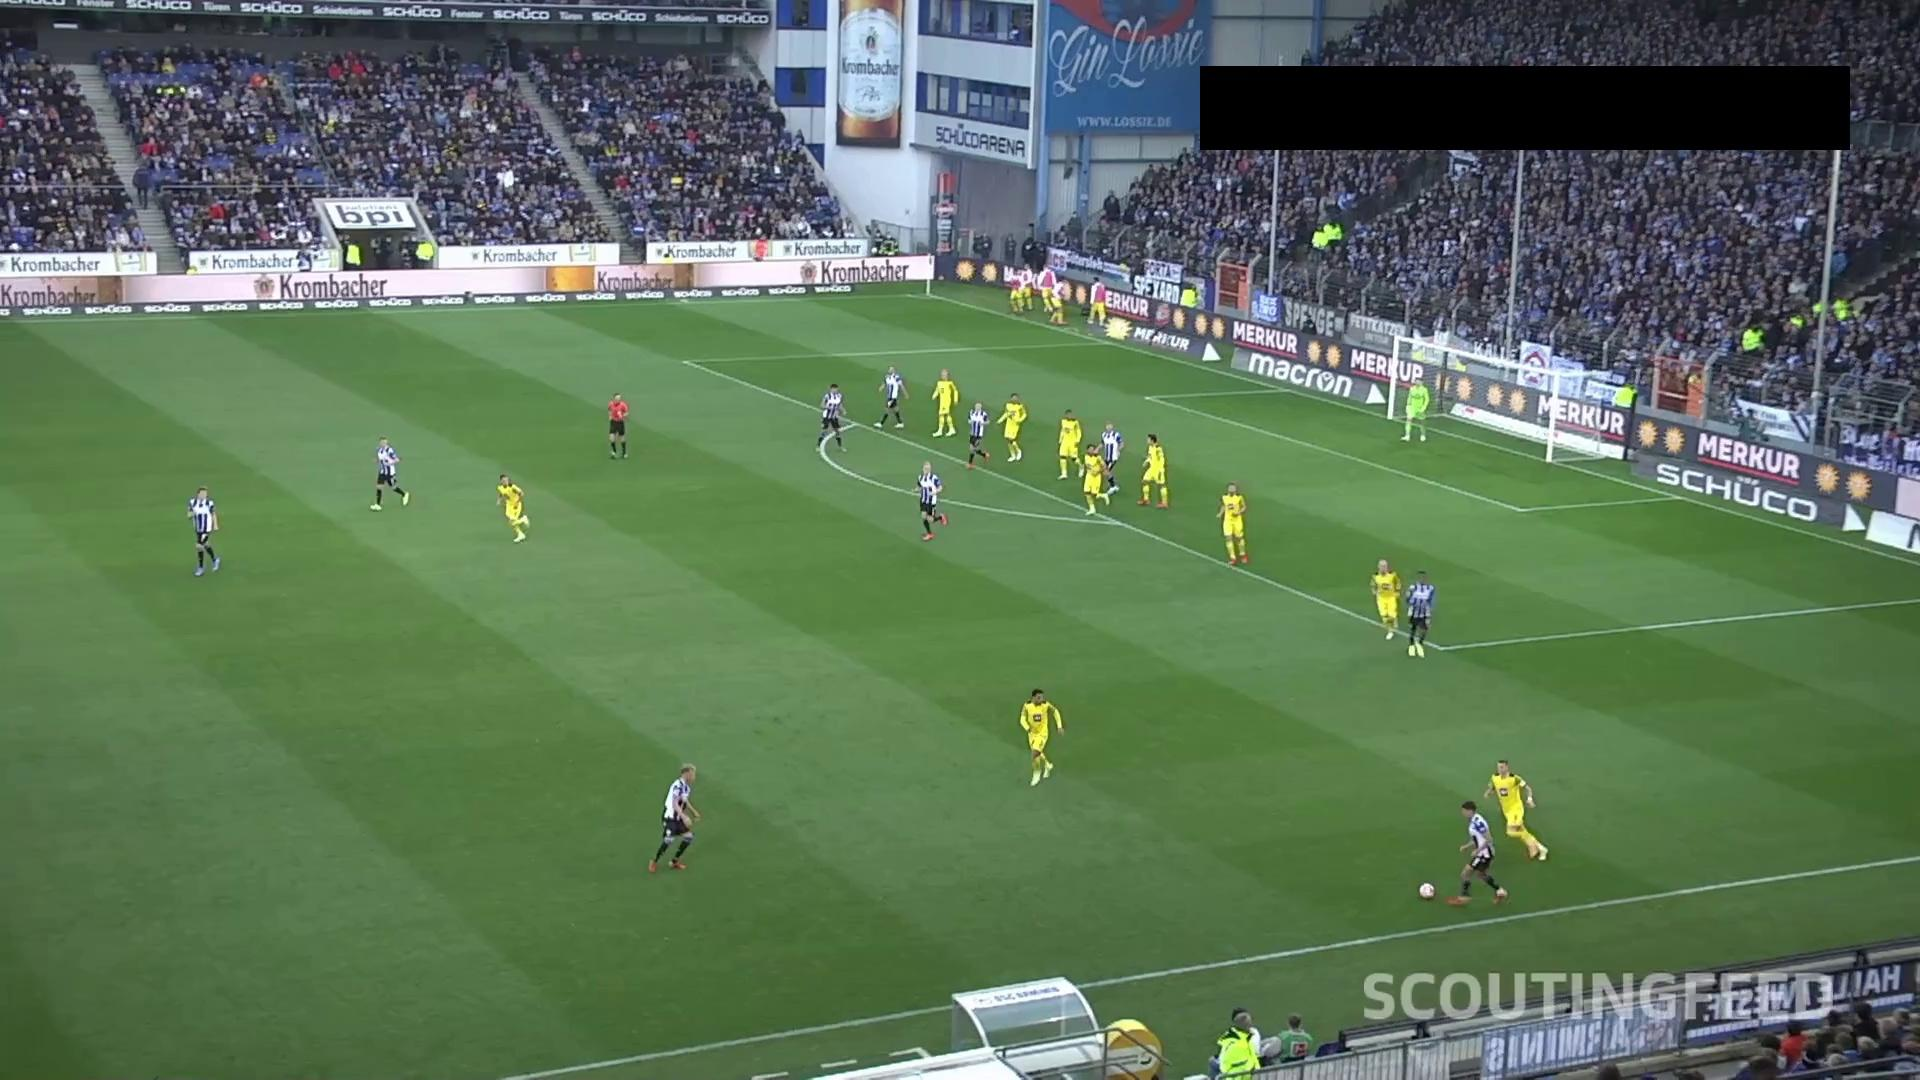Location-of-ball: (1411, 876, 1439, 907)
